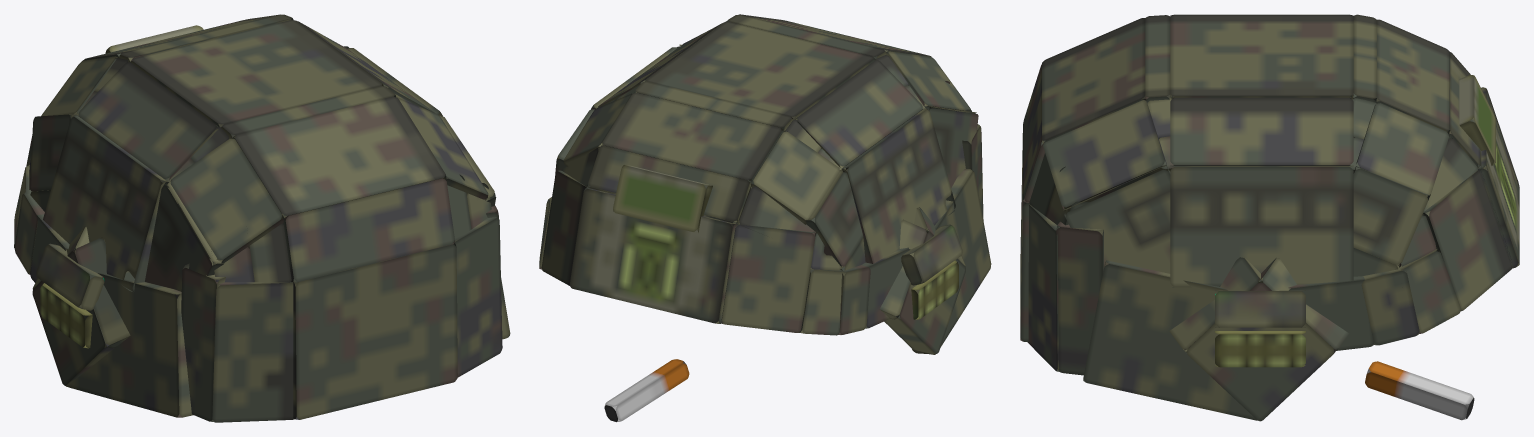
File: bydlovka_h.obj
3 views of the same model, side by side, from view 1: azimuth 30°, elevation 25°; view 2: azimuth 150°, elevation 25°; view 3: azimuth 270°, elevation 25° (orthographic). The views are drawn at different scales.
Visible parts, largest first — view 1: cuboid; view 2: cuboid; view 3: cuboid.
Part boxes in pixels (x1,y1,x2,y2): cuboid: (14,14,510,422); cuboid: (539,14,991,422); cuboid: (1020,14,1519,421).
Bounding box in the file's own units: 0.8065 × 0.6333 × 0.8584.
